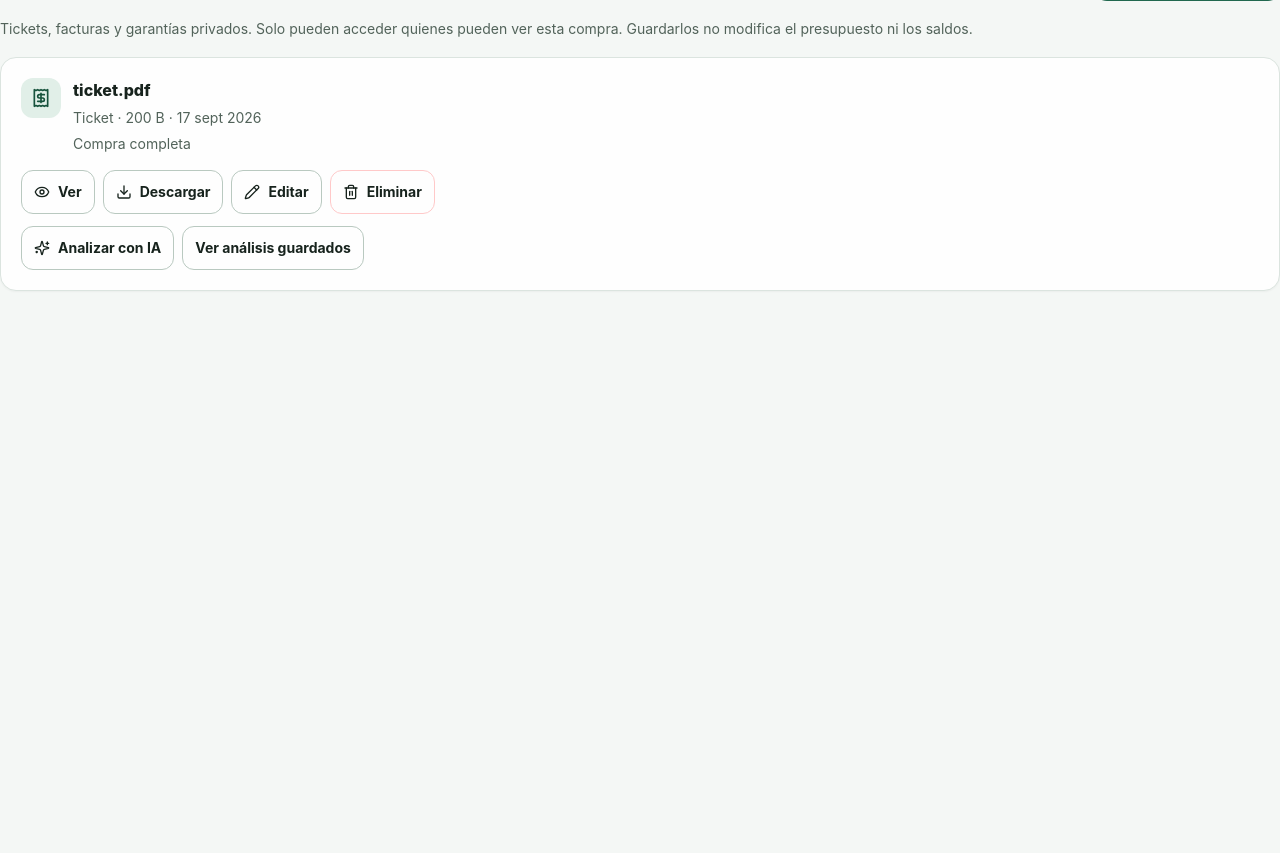
Test: PurchaseDocumentAnalysisPanel › confirms final reviewed values and then refreshes purchase, documents, analyses and financial views
Click the button with aria-label "Ver análisis de ticket.pdf" at coordinates (273, 248), box [182, 226, 364, 270]
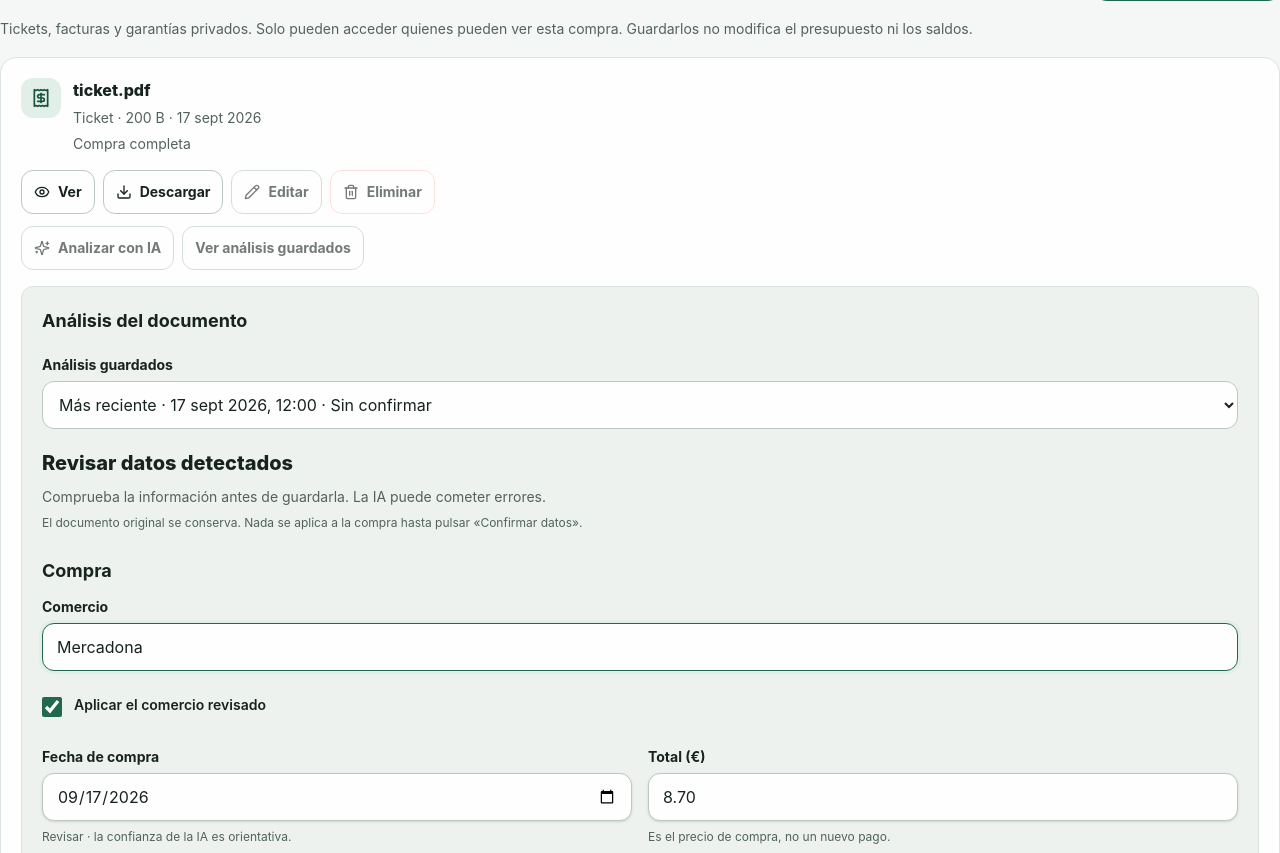
Replace the text in the field labelled "Comercio" with "Revisado" at coordinates (640, 647), box [42, 623, 1238, 671]
(page scrolled)
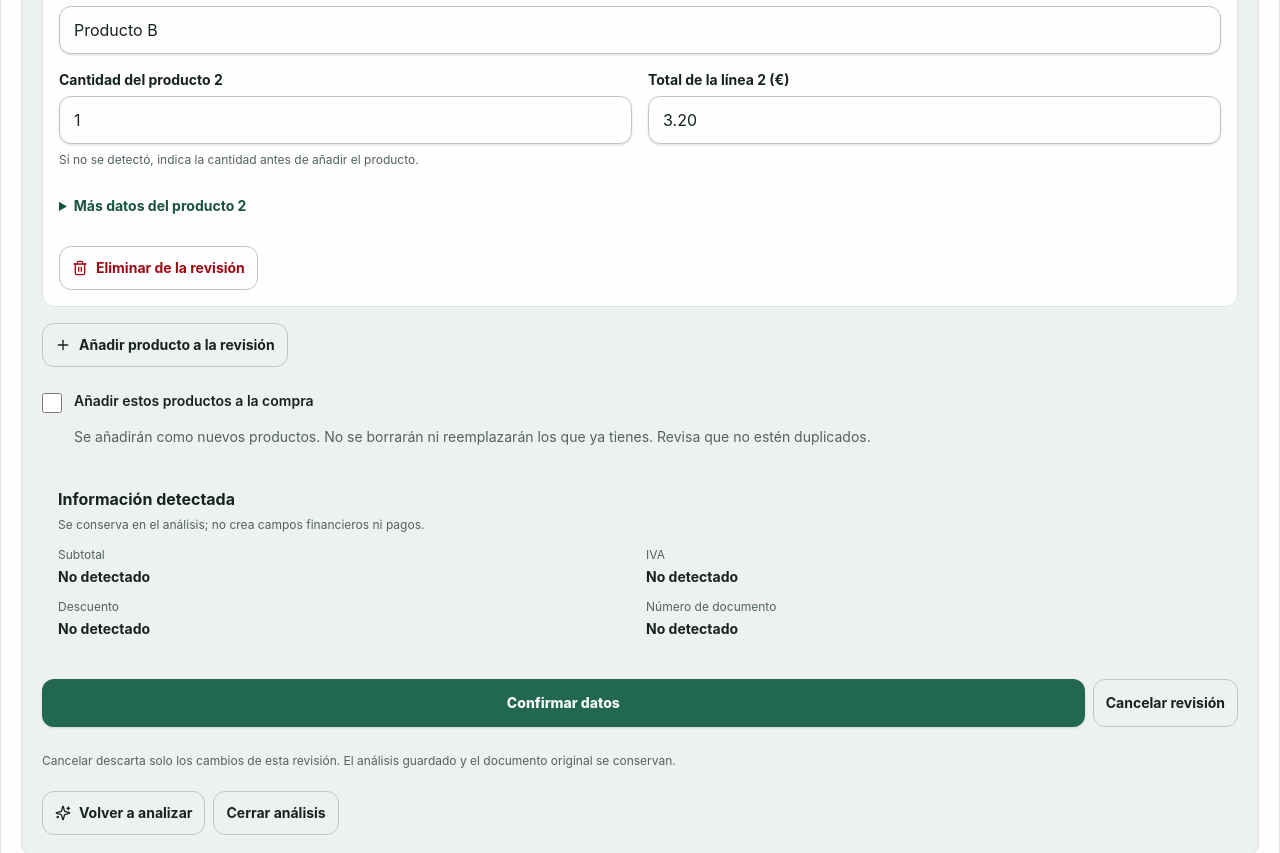
Click the checkbox labelled "Añadir estos productos a la compra" at coordinates (52, 403), box [42, 393, 62, 413]
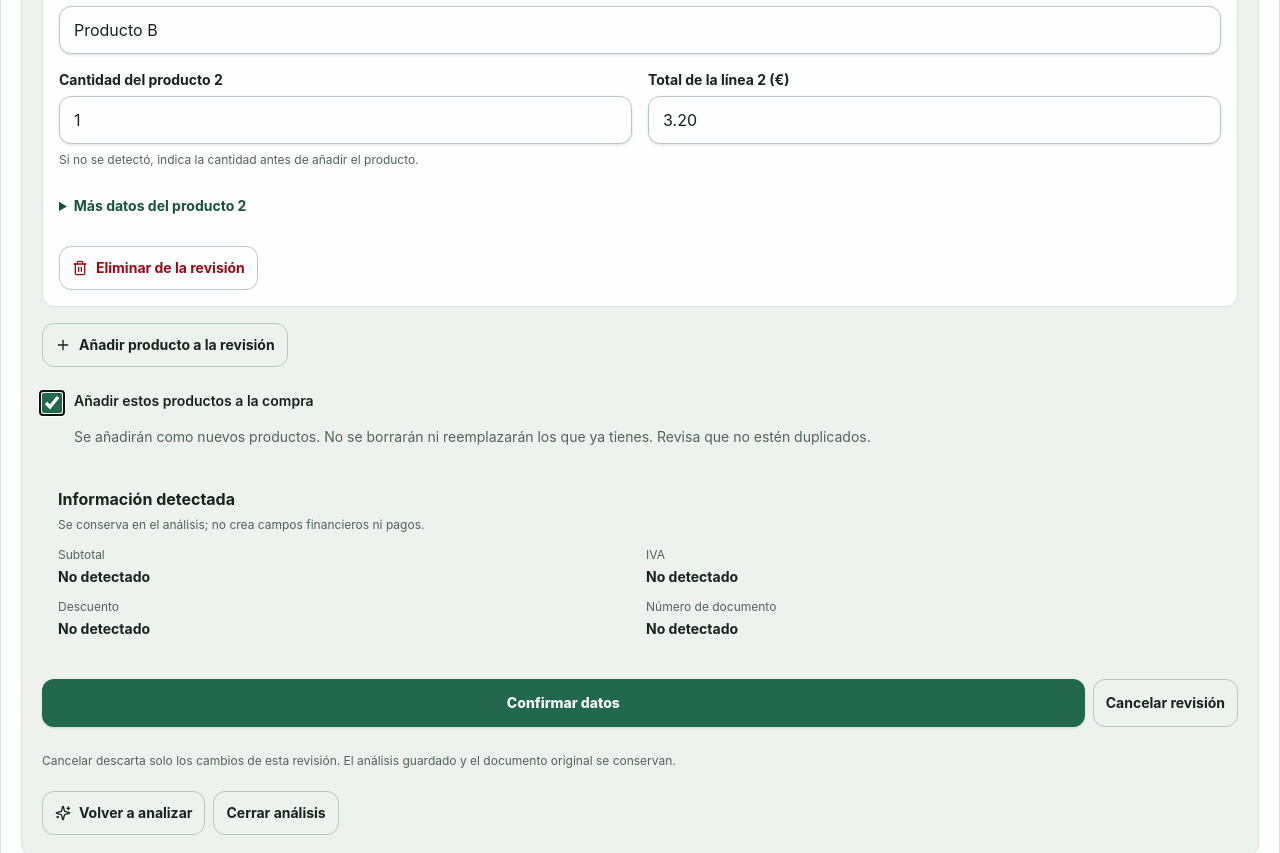
Click the button "Confirmar datos" at coordinates (563, 703), box [42, 679, 1085, 727]
(page scrolled)
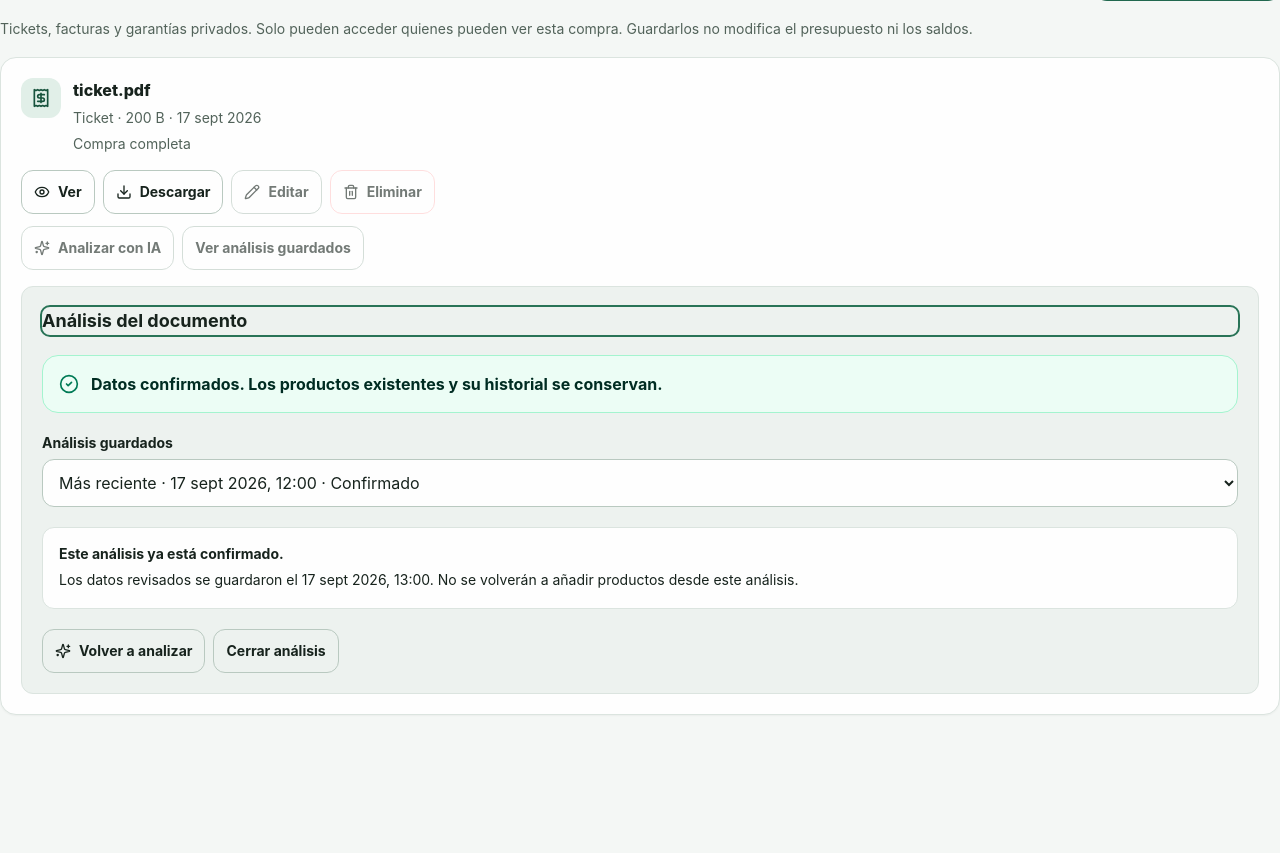
Expected: the text "Este análisis ya está confirmado." is shown, [59, 545, 284, 562]
Expected: the button "Confirmar datos" is gone
